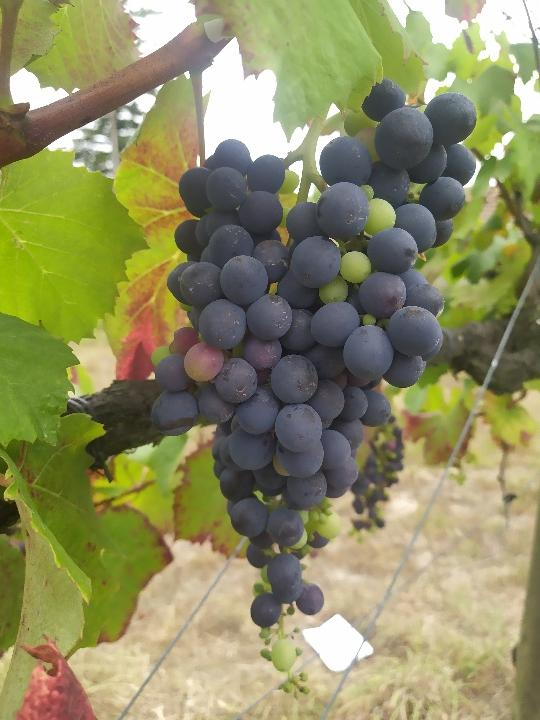grape: (151, 77, 478, 707)
